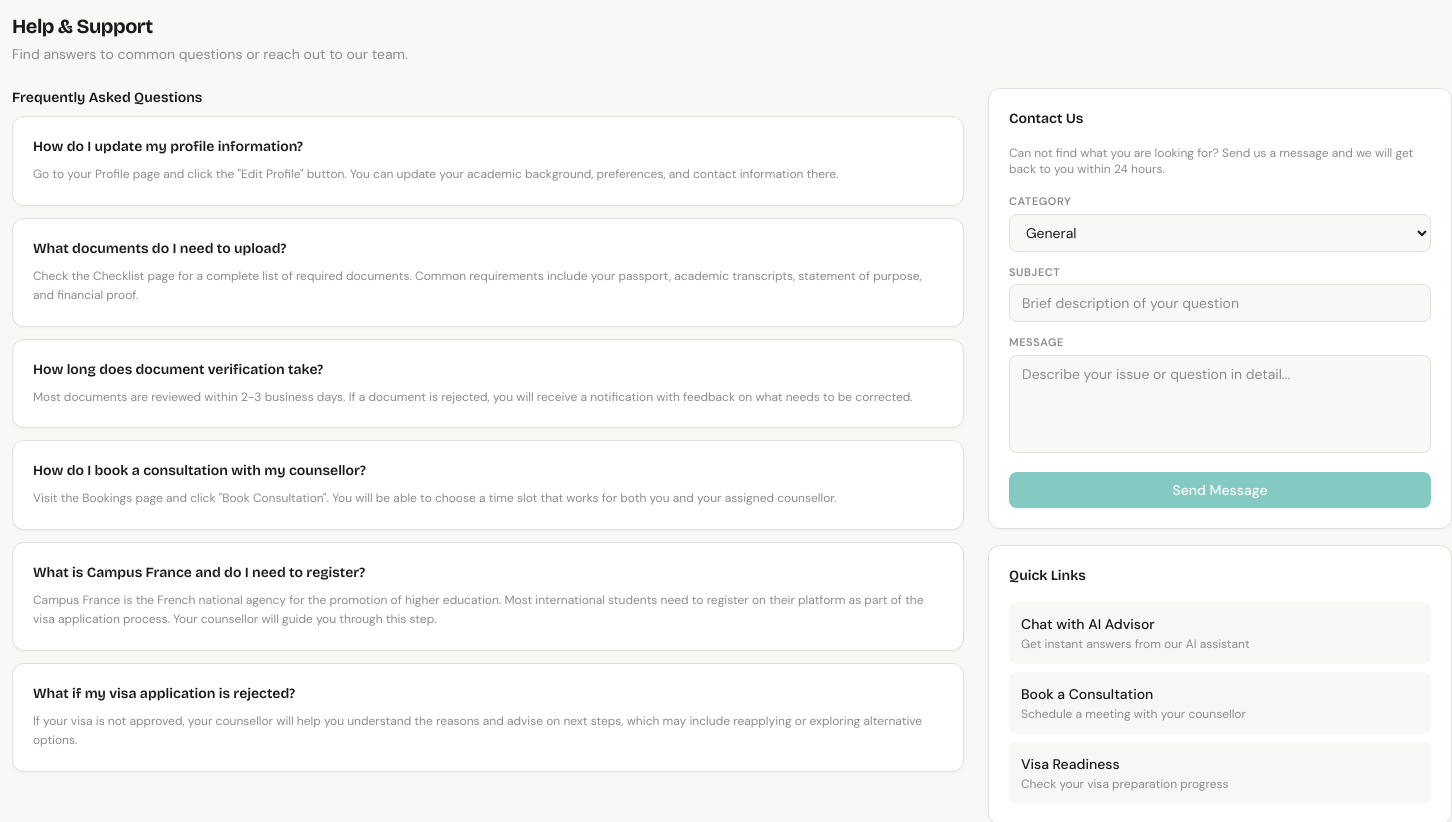
Test case: SupportPage › submits a support request via the API and shows confirmation
Select "Visa" in the dropdown at (1220, 232), box [1009,214,1431,252]
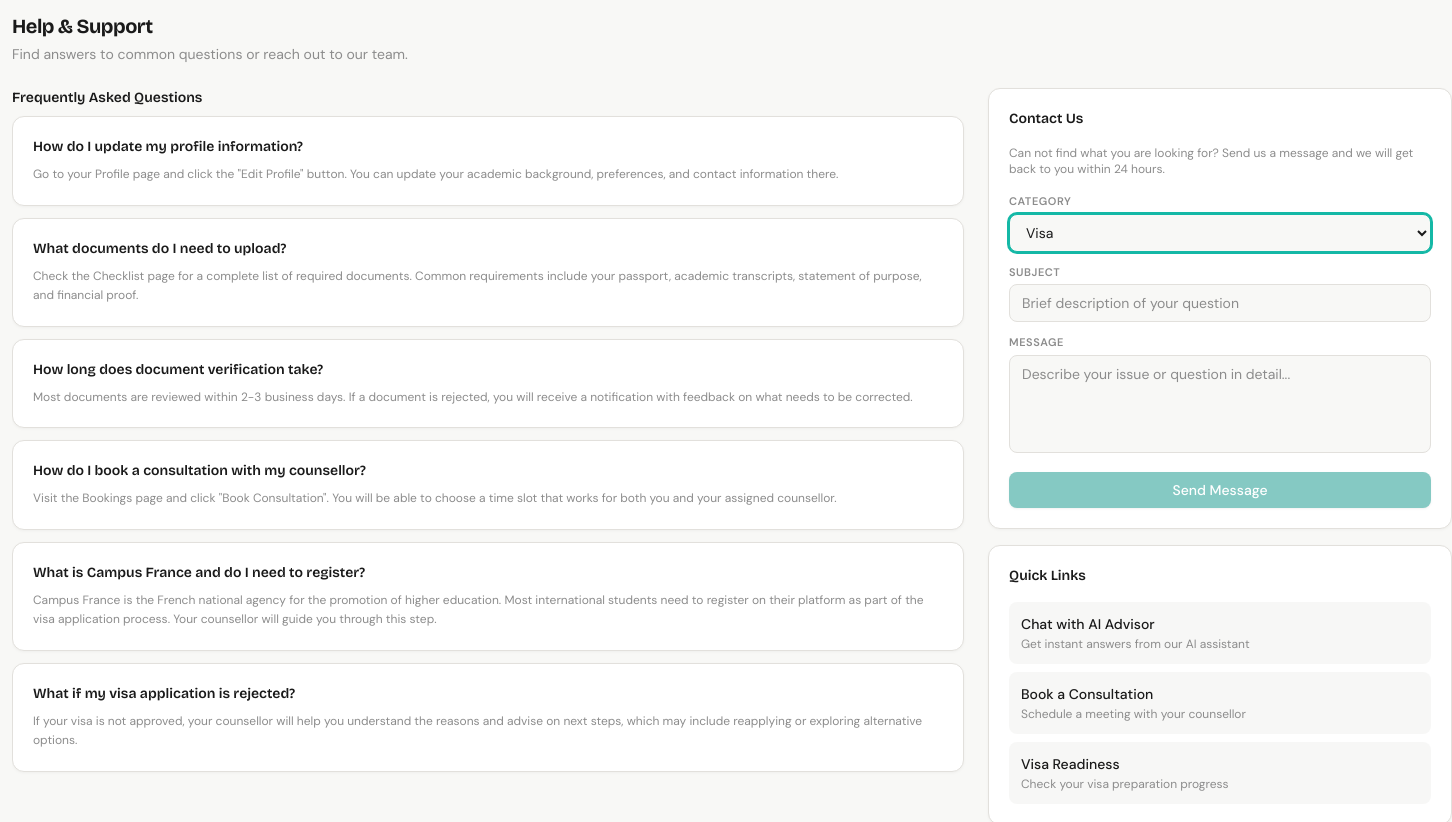
Type "Need visa timeline help" into the field with placeholder "Brief description of your question" at (1220, 303), box [1009,284,1431,322]
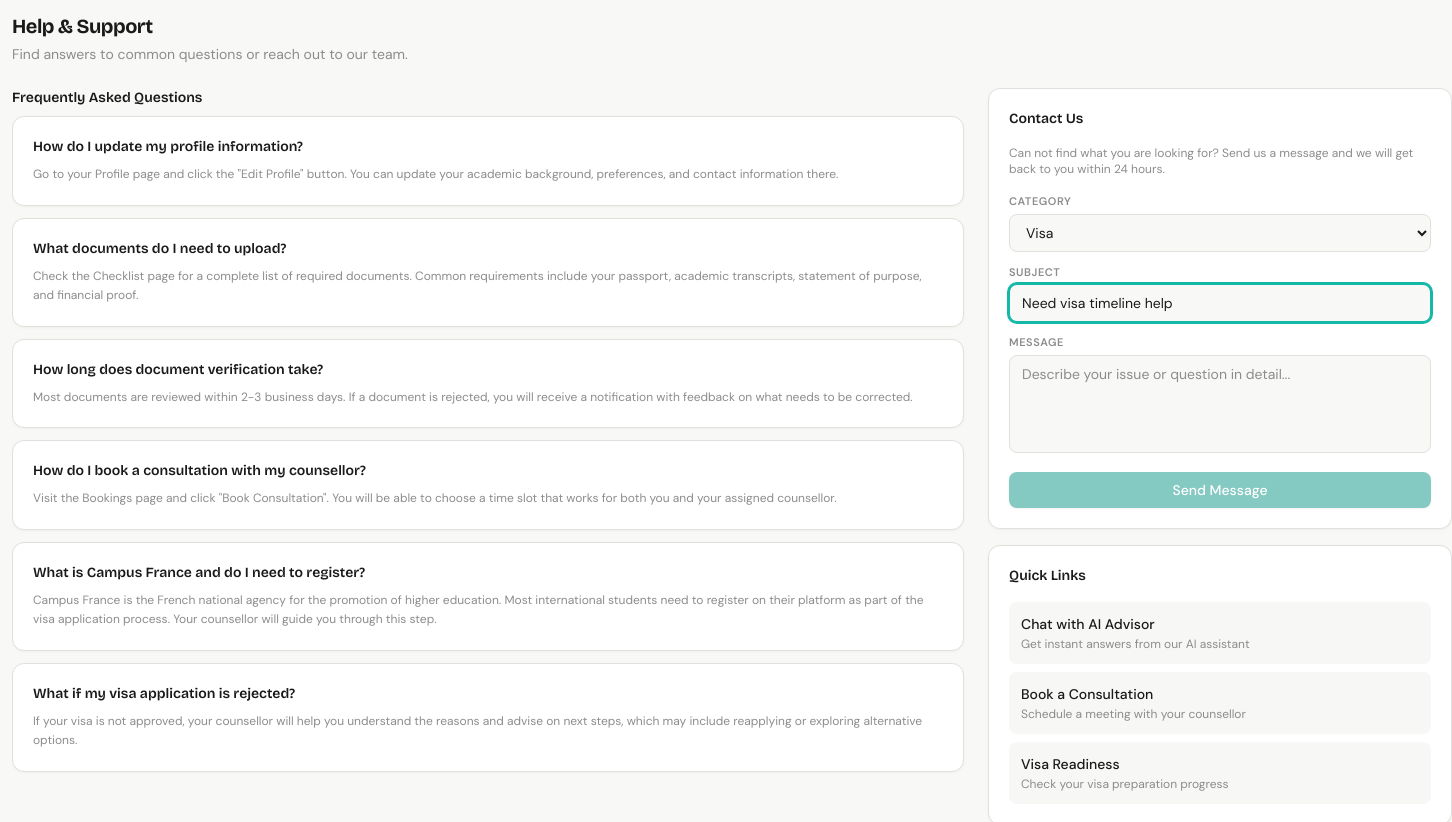
Type "When should I schedule my visa appointment?" into the text box with placeholder "Describe your issue or question in detail..." at (1220, 404), box [1009,354,1431,452]
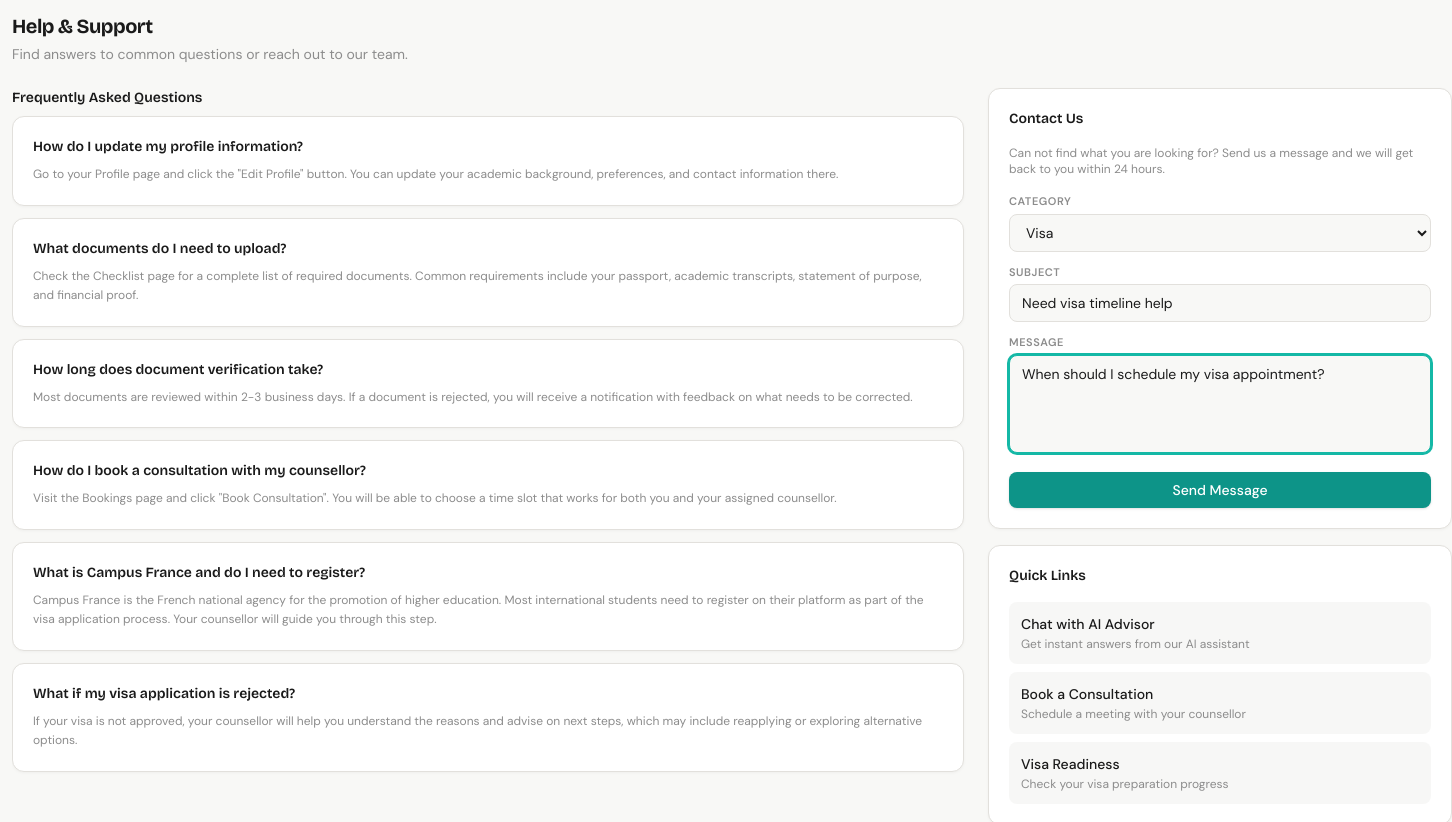
Click the button "Send Message" at (1220, 490), box [1009,472,1431,508]
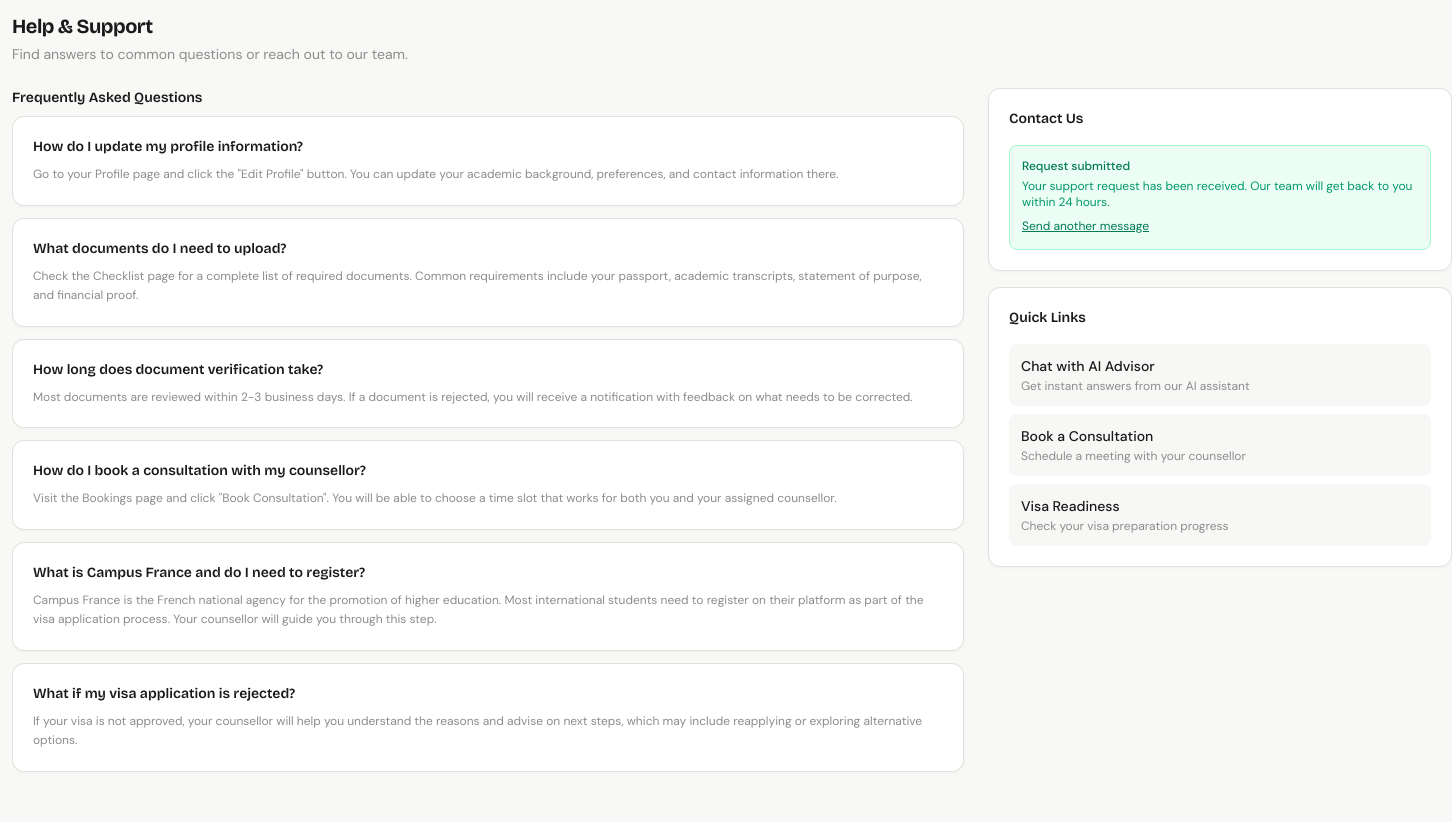
expect the text "Request submitted" is shown: met, box [1022,158,1130,174]
expect the text "within 24 hours" is shown: met, box [1022,178,1412,210]
